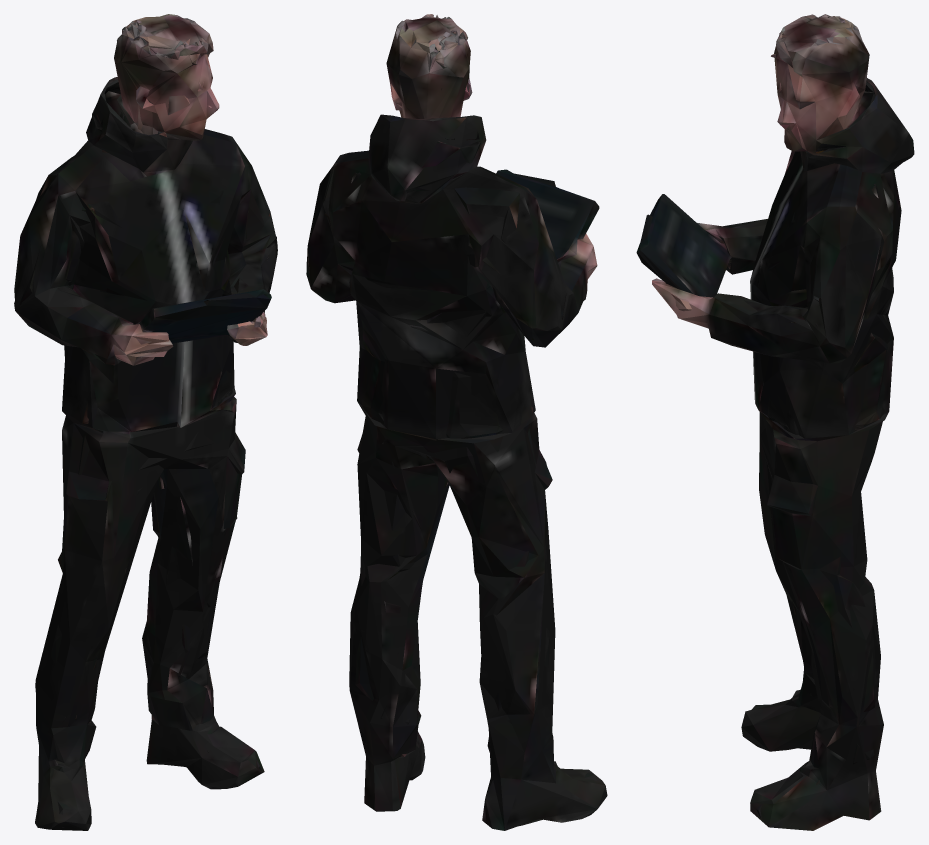
The model's file is operator.glb.
3 views of the same model, side by side, from view 1: azimuth 30°, elevation 25°; view 2: azimuth 150°, elevation 25°; view 3: azimuth 270°, elevation 25° (orthographic). The views are drawn at different scales.
Size of the model in its own units: 0.3595 by 0.9945 by 0.3224.
Materials: 1 (1 with a texture image).
